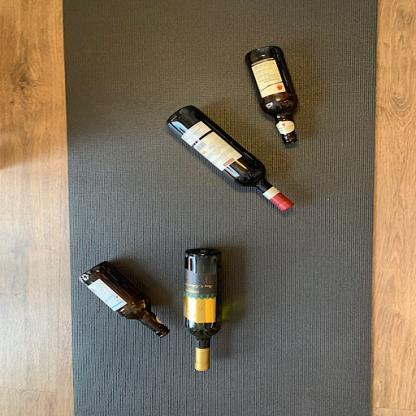trash: (162, 104, 297, 213), (74, 258, 171, 337), (244, 45, 302, 145), (180, 246, 224, 377)
